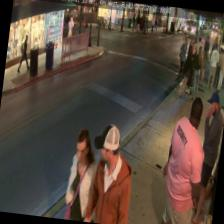person: (154, 92, 210, 224), (83, 122, 138, 224), (186, 91, 224, 224), (61, 126, 100, 221)
